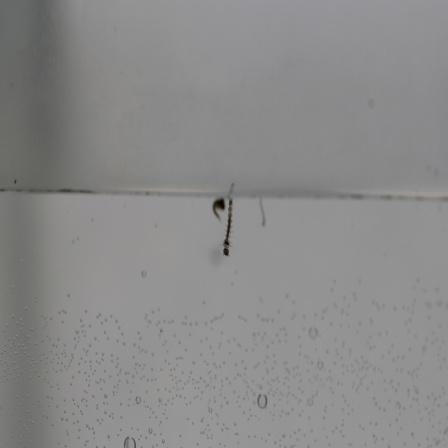Jentik-Nyamuk: (208, 194, 237, 257)
